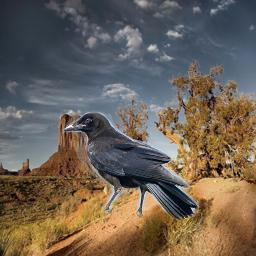Crow: (63, 112, 199, 220)
